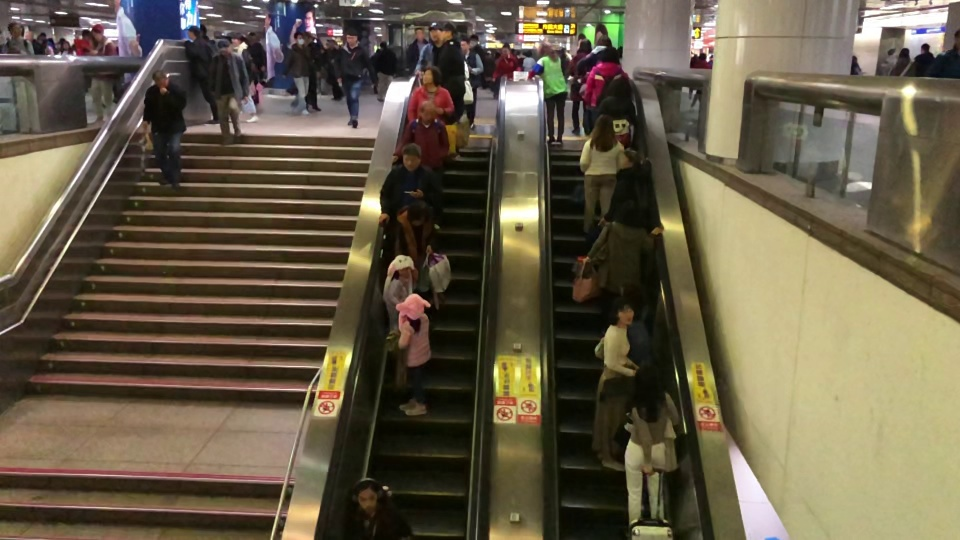person_head: (635, 363, 662, 398), (405, 199, 430, 225), (356, 482, 377, 512), (619, 199, 641, 225), (612, 298, 634, 324), (401, 143, 422, 170), (608, 75, 631, 98), (621, 280, 645, 300), (620, 149, 641, 169), (593, 114, 613, 134), (418, 100, 434, 122), (421, 66, 439, 84), (151, 70, 170, 87), (600, 47, 619, 64), (216, 38, 231, 55), (395, 263, 411, 277), (407, 301, 420, 318), (8, 21, 22, 36), (344, 29, 358, 44), (576, 38, 591, 52), (595, 34, 611, 47), (440, 26, 453, 41), (429, 25, 441, 41), (186, 26, 199, 39), (92, 26, 104, 40), (414, 27, 424, 41), (294, 32, 305, 44), (540, 43, 552, 54), (953, 28, 960, 46), (460, 38, 469, 51), (900, 47, 910, 57), (234, 36, 243, 47), (469, 34, 478, 45), (920, 43, 930, 52), (699, 53, 708, 62), (886, 47, 896, 55), (379, 40, 387, 49), (851, 54, 858, 64), (501, 47, 509, 55), (526, 50, 532, 57)
person_vbox: (622, 363, 682, 523), (588, 298, 638, 473), (583, 199, 665, 296), (391, 100, 450, 232), (376, 143, 443, 229), (579, 114, 625, 235), (141, 70, 186, 192), (207, 38, 250, 143), (333, 29, 377, 129), (395, 302, 433, 416), (529, 43, 569, 147), (596, 149, 652, 223), (181, 26, 220, 125), (437, 26, 465, 160), (385, 262, 413, 393), (354, 481, 414, 540), (614, 279, 654, 361), (85, 26, 118, 123), (392, 200, 439, 268), (583, 47, 629, 112), (597, 75, 636, 148), (406, 66, 455, 123), (229, 35, 260, 123), (281, 31, 311, 116), (567, 38, 591, 134), (460, 39, 483, 130), (576, 34, 619, 74), (930, 28, 960, 78), (375, 40, 397, 101), (415, 26, 441, 72), (690, 53, 711, 105), (2, 22, 34, 55), (491, 47, 521, 80), (408, 27, 425, 71), (913, 42, 934, 77), (890, 48, 915, 77), (879, 47, 897, 77), (522, 49, 536, 71), (850, 54, 862, 75)
